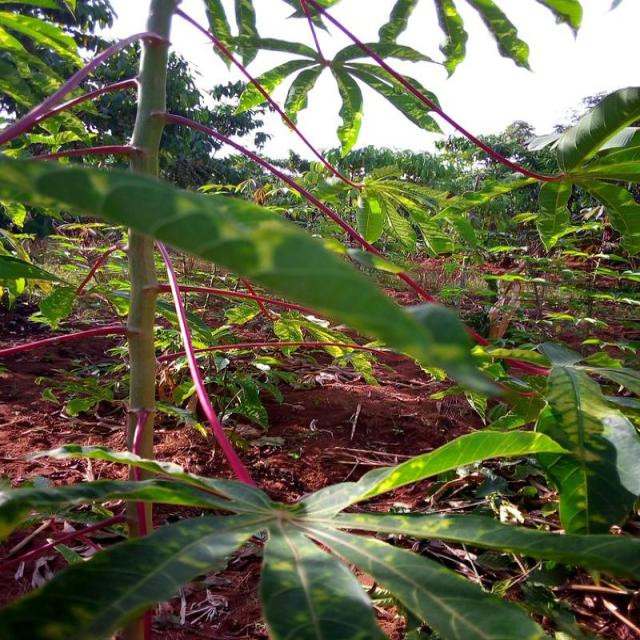cassava leaf: (0, 151, 507, 402), (533, 362, 638, 534)
